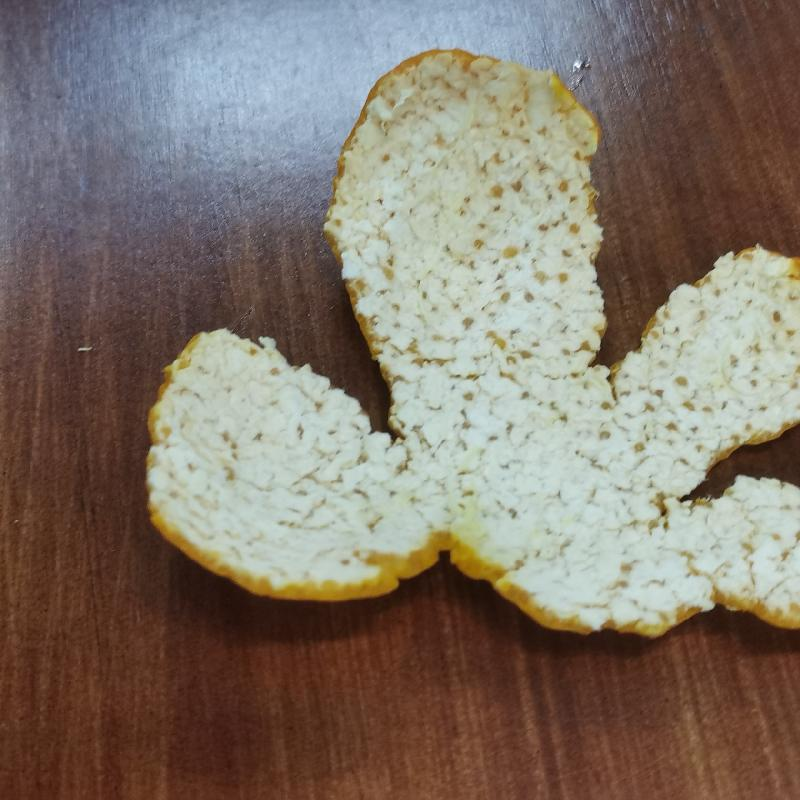orange: (136, 44, 799, 642)
